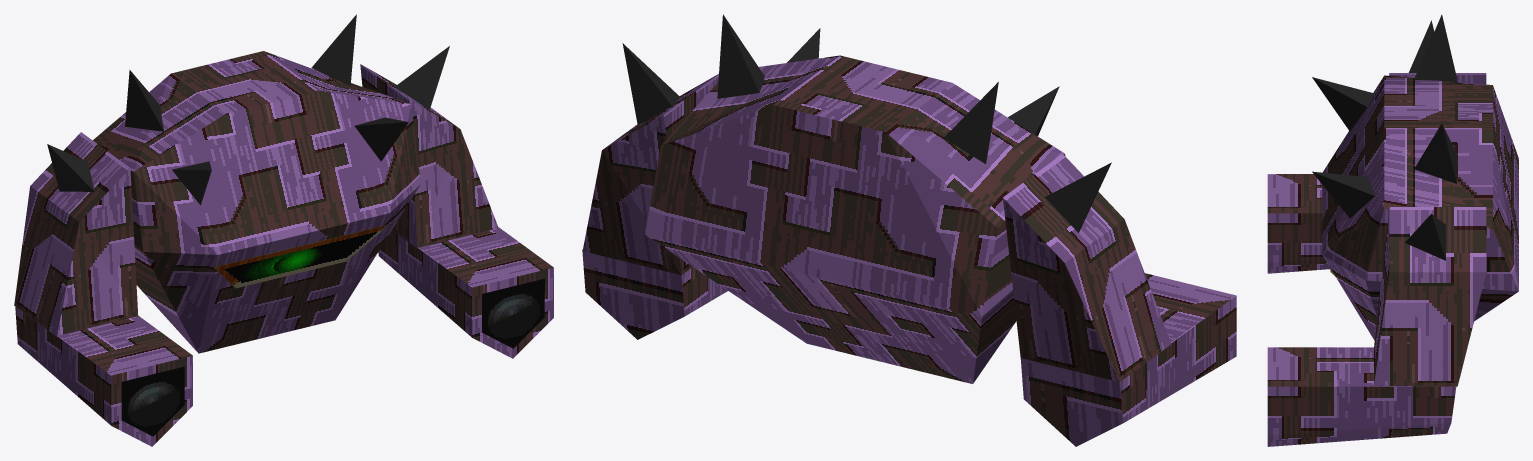
The model's file is Fusion_Hulk.obj.
The picture shows the model from 3 angles, left to right: view 1: azimuth 30°, elevation 25°; view 2: azimuth 150°, elevation 25°; view 3: azimuth 270°, elevation 25°; orthographic projection. The views are drawn at different scales.
Parts seen in each view (by area): view 1: Fusion_Hulk; view 2: Fusion_Hulk; view 3: Fusion_Hulk.
Part boxes in pixels (bbox=[...]): Fusion_Hulk: bbox=[14, 14, 553, 446]; Fusion_Hulk: bbox=[582, 14, 1236, 446]; Fusion_Hulk: bbox=[1267, 14, 1518, 446].
Bounding box in the file's own units: 15 × 9.59 × 7.56.
Materials: 4 (3 with a texture image).
